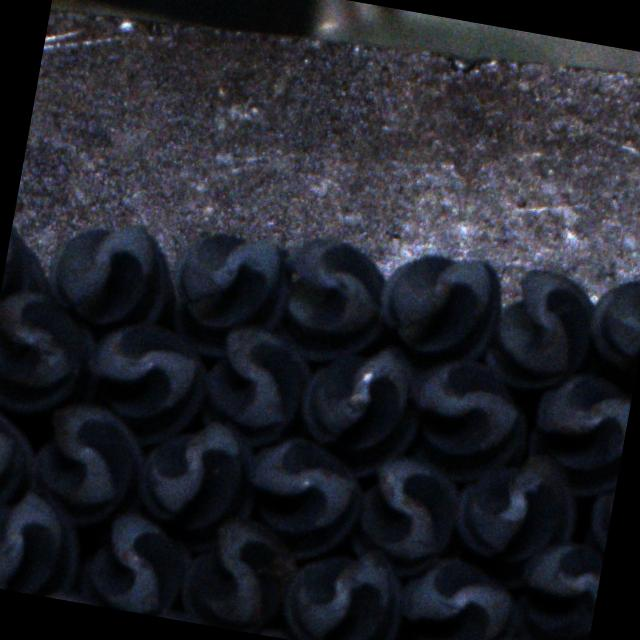tool_b: (446, 439, 586, 599), (290, 330, 430, 482), (126, 410, 264, 558), (398, 352, 540, 492), (77, 314, 215, 455), (39, 210, 184, 340), (161, 224, 295, 364), (232, 430, 369, 566), (368, 242, 506, 374), (267, 231, 396, 370), (21, 396, 149, 532), (480, 262, 602, 398), (0, 281, 114, 424), (174, 509, 299, 638), (344, 446, 464, 580), (194, 316, 310, 454), (521, 366, 634, 500), (75, 502, 193, 620), (278, 534, 409, 640), (390, 549, 526, 640), (0, 475, 88, 600), (506, 533, 605, 640), (578, 248, 640, 399), (0, 400, 40, 529)
